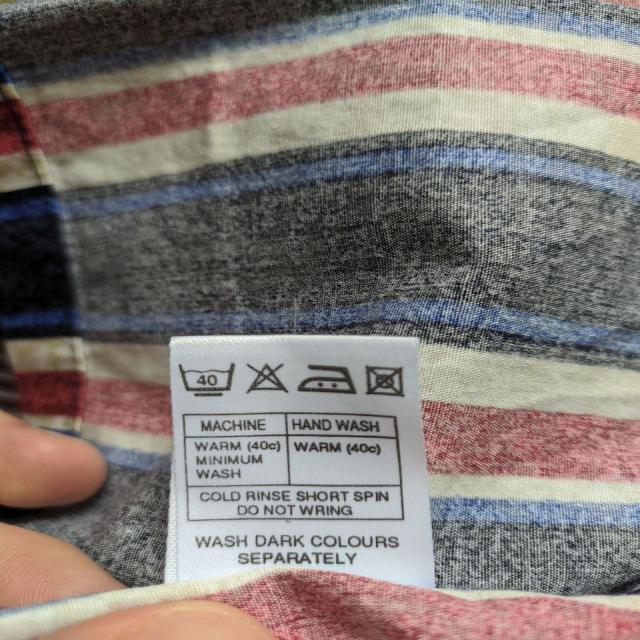40C: (174, 360, 239, 400)
DN_bleach: (246, 360, 287, 394)
DN_tumble_dry: (363, 362, 410, 399)
iron_medium: (299, 363, 356, 396)
